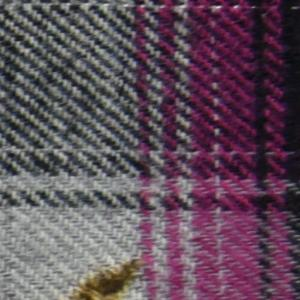Damage: (77, 269, 131, 300)
Oil Stain: (65, 255, 150, 300)
